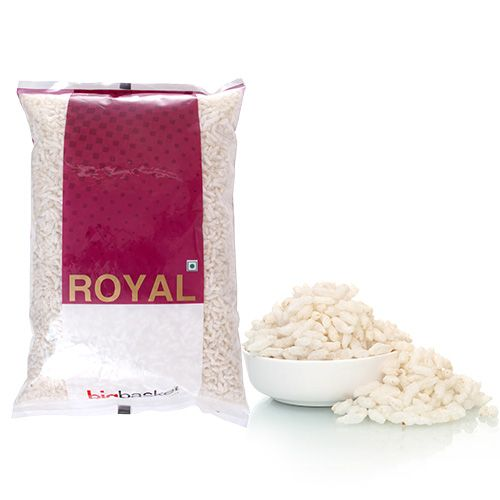plain rice: (35, 93, 242, 423), (251, 274, 403, 363), (389, 355, 488, 425)
